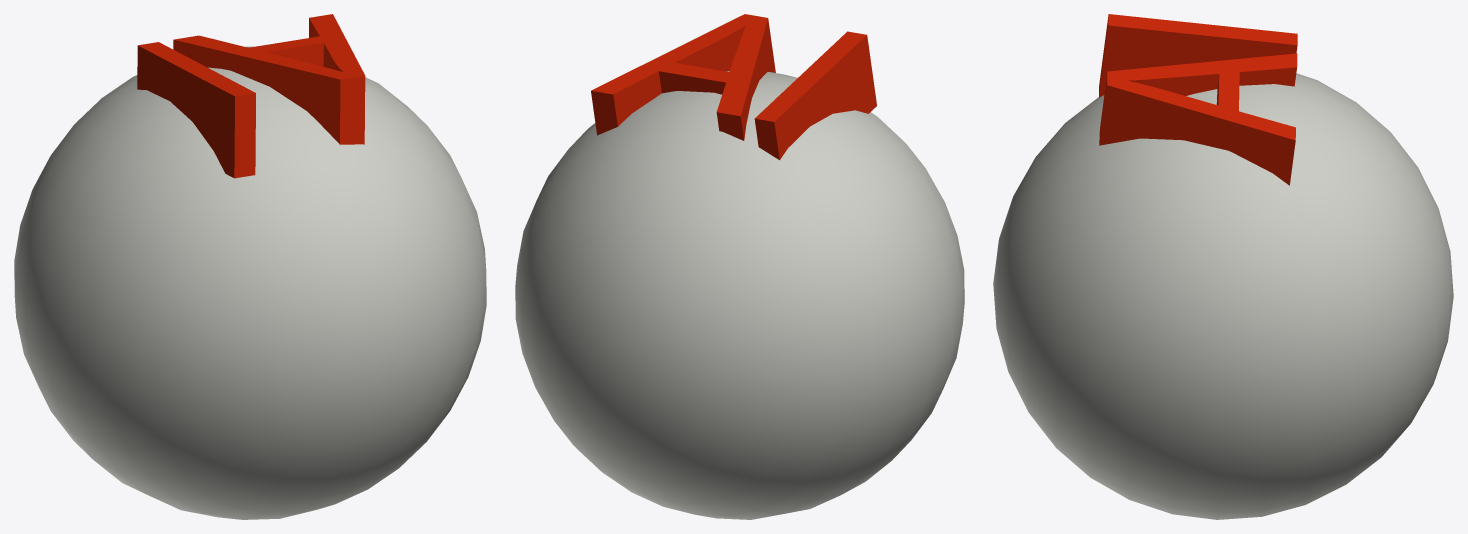
The picture shows the model from 3 angles, left to right: view 1: azimuth 30°, elevation 25°; view 2: azimuth 150°, elevation 25°; view 3: azimuth 270°, elevation 25°; orthographic projection. The views are drawn at different scales.
Visible parts, largest first — view 1: Al; view 2: Al; view 3: Al.
Boxes of the visible parts, x1=… form: Al: x1=14, y1=14, x2=486, y2=519; Al: x1=515, y1=14, x2=964, y2=519; Al: x1=993, y1=14, x2=1453, y2=519.
Size of the model in its own units: 38.57 by 41.63 by 38.74.
